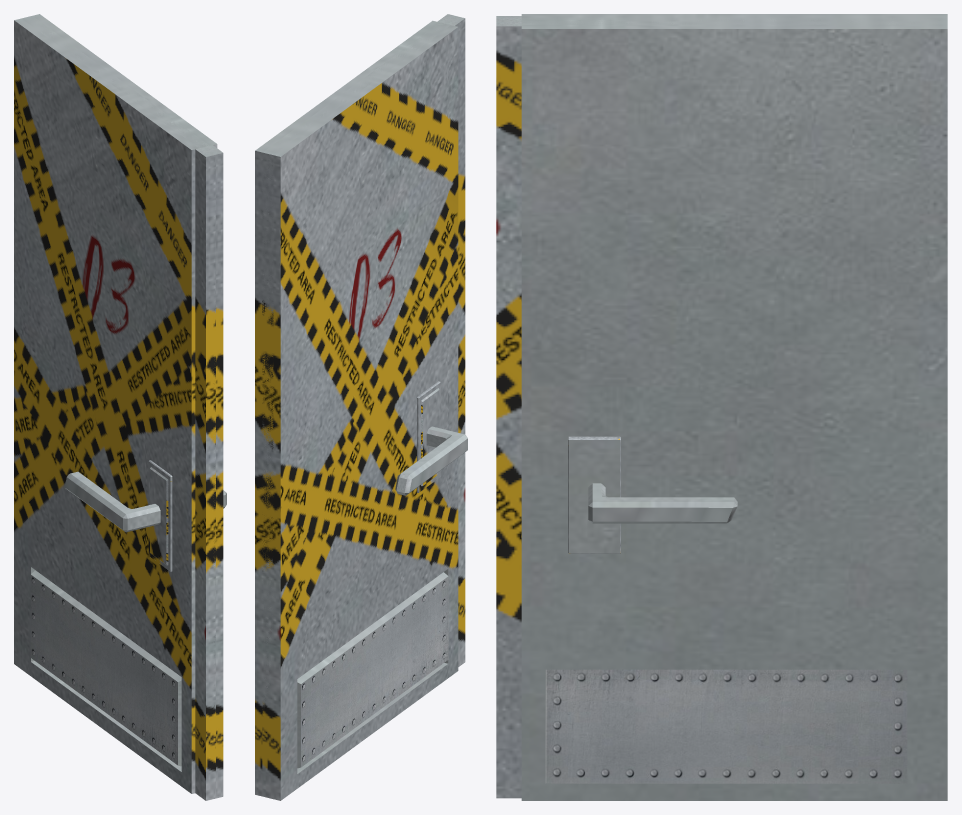
File: door3.fbx
3 renders of one model, left to right at view 1: azimuth 30°, elevation 25°; view 2: azimuth 150°, elevation 25°; view 3: azimuth 270°, elevation 25°, orthographic. The views are drawn at different scales.
Parts seen in each view (by area): view 1: door4_pCube159; view 2: door4_pCube159; view 3: door4_pCube159.
Boxes of the visible parts, <box> form: door4_pCube159: <box>14,14,226,800</box>; door4_pCube159: <box>255,14,467,800</box>; door4_pCube159: <box>496,14,947,800</box>.
Bounding box in the file's own units: 45.21 × 267 × 142.
